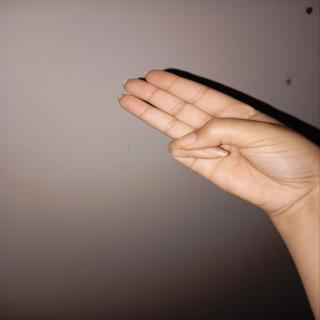THA: (111, 61, 320, 208)
